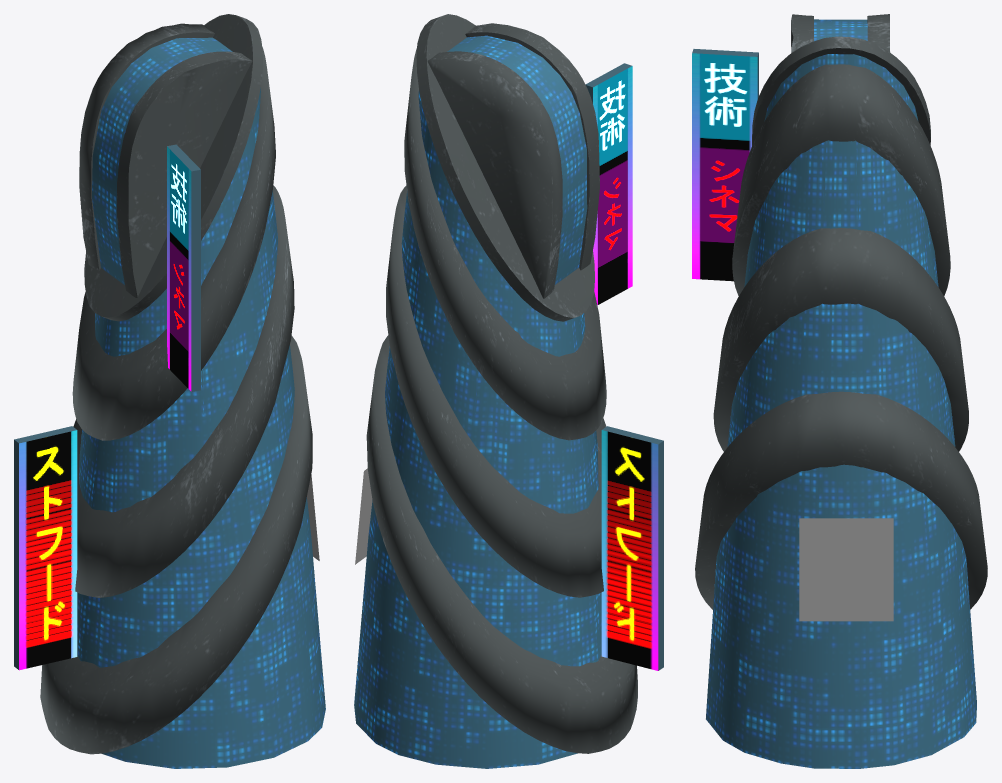
The model's file is BLD1310022.fbx.
3 views of the same model, side by side, from view 1: azimuth 30°, elevation 25°; view 2: azimuth 150°, elevation 25°; view 3: azimuth 270°, elevation 25° (orthographic). The views are drawn at different scales.
Parts seen in each view (by area): view 1: smBLD1310022; view 2: smBLD1310022; view 3: smBLD1310022.
Boxes of the visible parts, <box> form: smBLD1310022: <box>14,14,325,768</box>; smBLD1310022: <box>354,14,663,768</box>; smBLD1310022: <box>692,14,987,768</box>.
Size of the model in its own units: 1333 by 3002 by 1151.
Materials: 3 (2 with a texture image).
